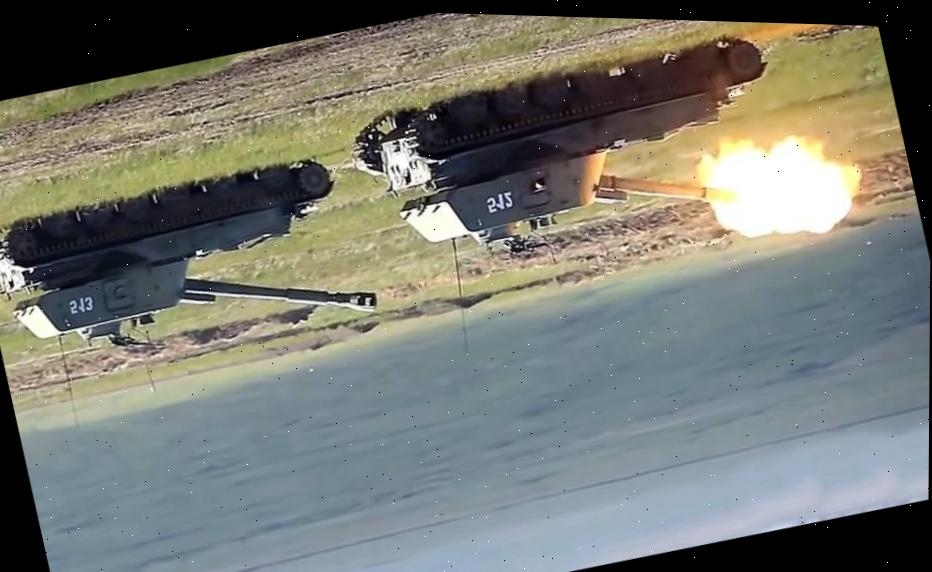sau: (353, 11, 833, 316), (0, 123, 398, 417), (828, 25, 901, 134)
